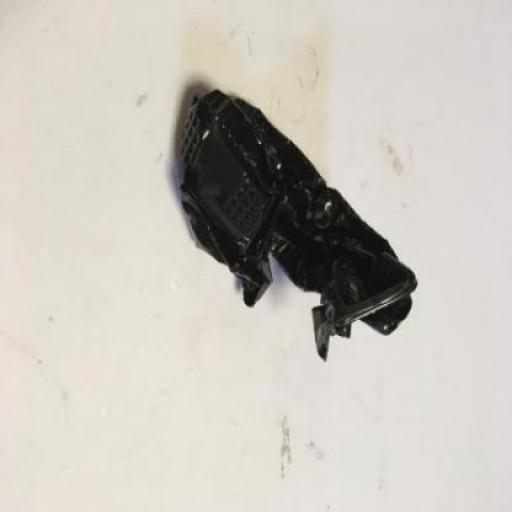plastic: (180, 94, 420, 363)
